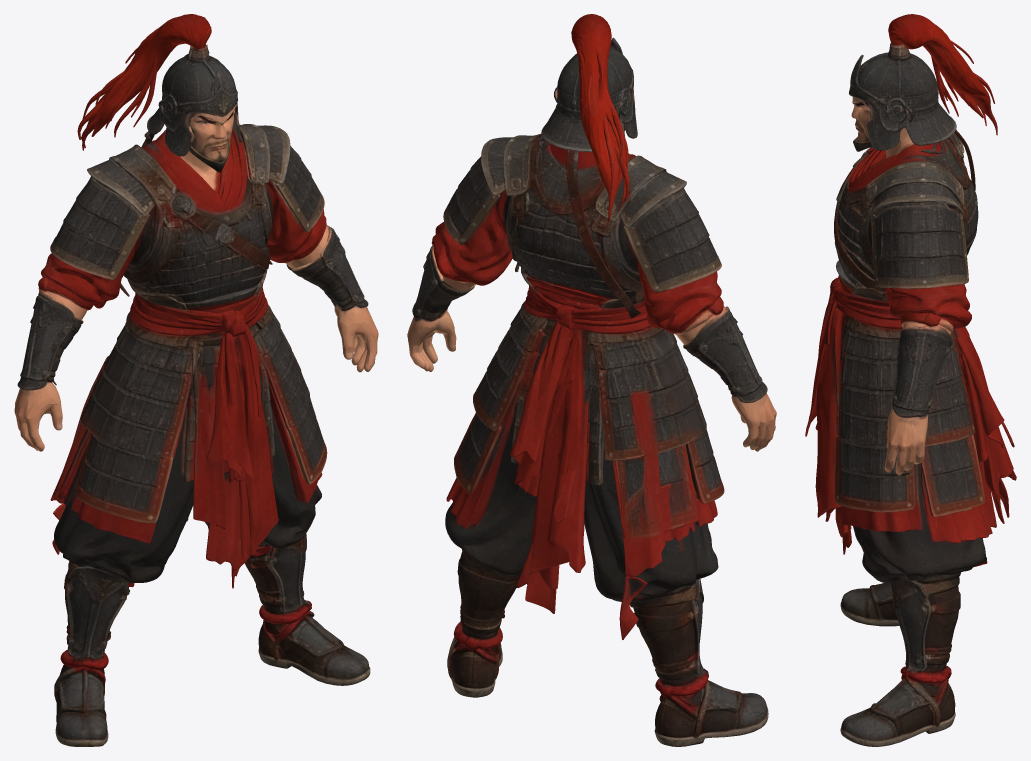
File: glb.glb
3 views of the same model, side by side, from view 1: azimuth 30°, elevation 25°; view 2: azimuth 150°, elevation 25°; view 3: azimuth 270°, elevation 25° (orthographic). The views are drawn at different scales.
Bounding box in the file's own units: 1.05 × 1.9 × 0.554.
1 material, 1 textured.
